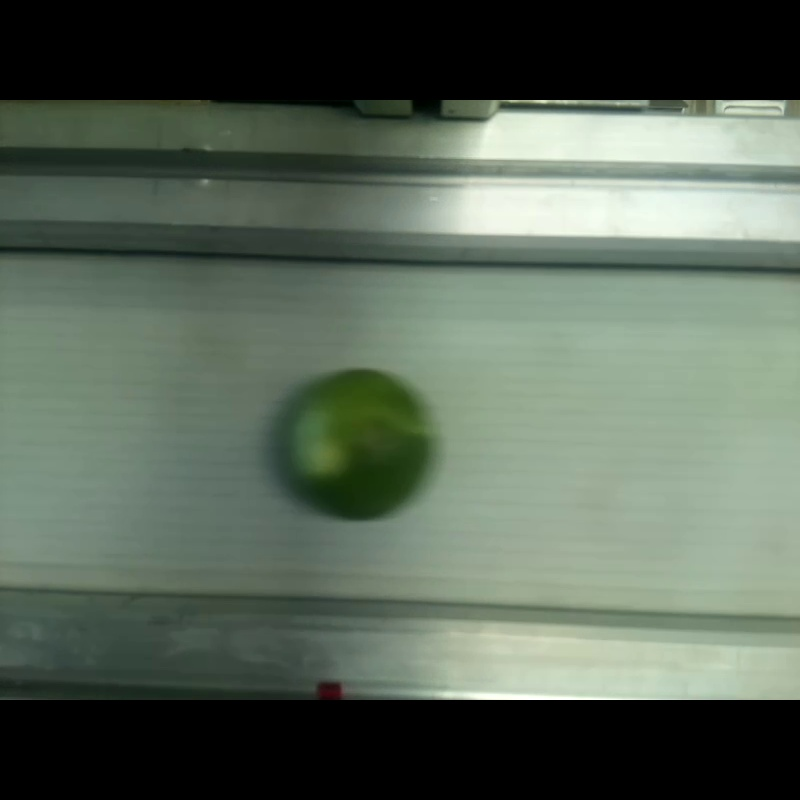lime: (288, 368, 426, 520)
